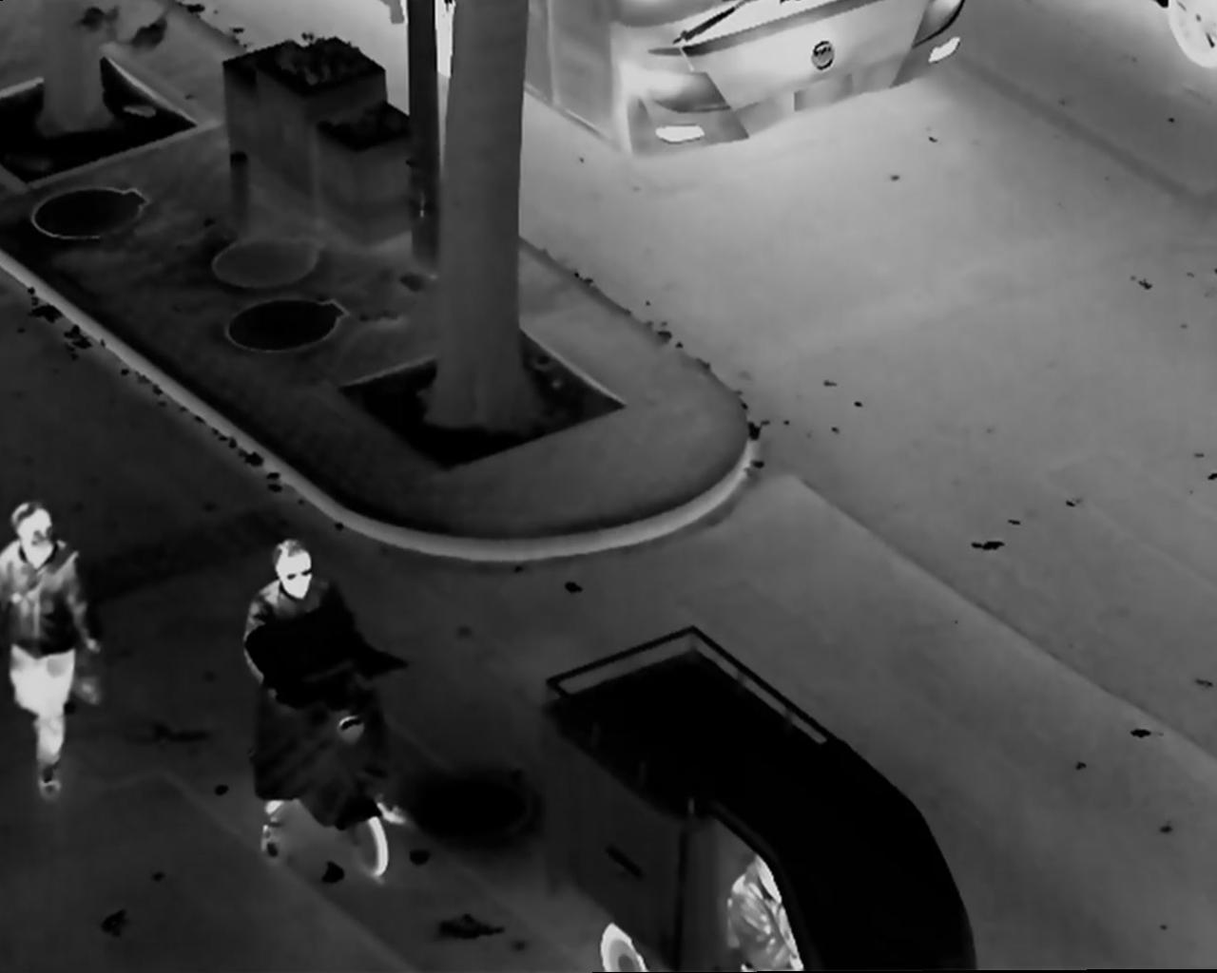person: (231, 532, 415, 861), (717, 846, 807, 973)
